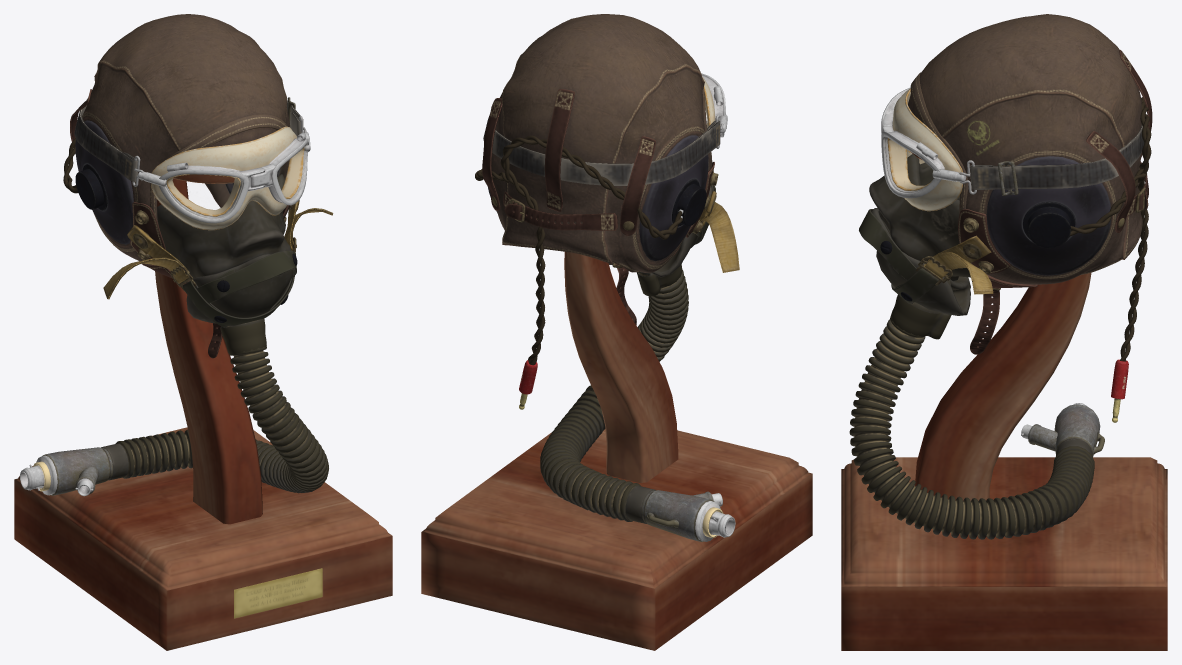
The model's file is FlightHelmet512.glb.
3 views of the same model, side by side, from view 1: azimuth 30°, elevation 25°; view 2: azimuth 150°, elevation 25°; view 3: azimuth 270°, elevation 25° (orthographic). The views are drawn at different scales.
Visible parts, largest first — view 1: RubberWood_low, LeatherParts_low, MetalParts_low, GlassPlastic_low, Hose_low; view 2: RubberWood_low, LeatherParts_low, Hose_low, MetalParts_low, GlassPlastic_low; view 3: RubberWood_low, LeatherParts_low, Hose_low, GlassPlastic_low, MetalParts_low.
Boxes of the visible parts, x1,y1,x2,y2 form: RubberWood_low: [14, 100, 392, 650]; LeatherParts_low: [70, 14, 290, 358]; MetalParts_low: [20, 97, 322, 618]; GlassPlastic_low: [75, 120, 304, 244]; Hose_low: [115, 346, 328, 493]; RubberWood_low: [421, 114, 812, 650]; LeatherParts_low: [482, 14, 714, 325]; Hose_low: [540, 270, 688, 521]; MetalParts_low: [492, 73, 735, 541]; GlassPlastic_low: [487, 76, 715, 261]; RubberWood_low: [841, 97, 1167, 650]; LeatherParts_low: [908, 14, 1152, 354]; Hose_low: [849, 317, 1094, 539]; GlassPlastic_low: [887, 88, 1110, 275]; MetalParts_low: [880, 87, 1146, 457].
Size of the model in its own units: 0.3666 by 0.716 by 0.3716.
Materials: 6 (6 with a texture image).
